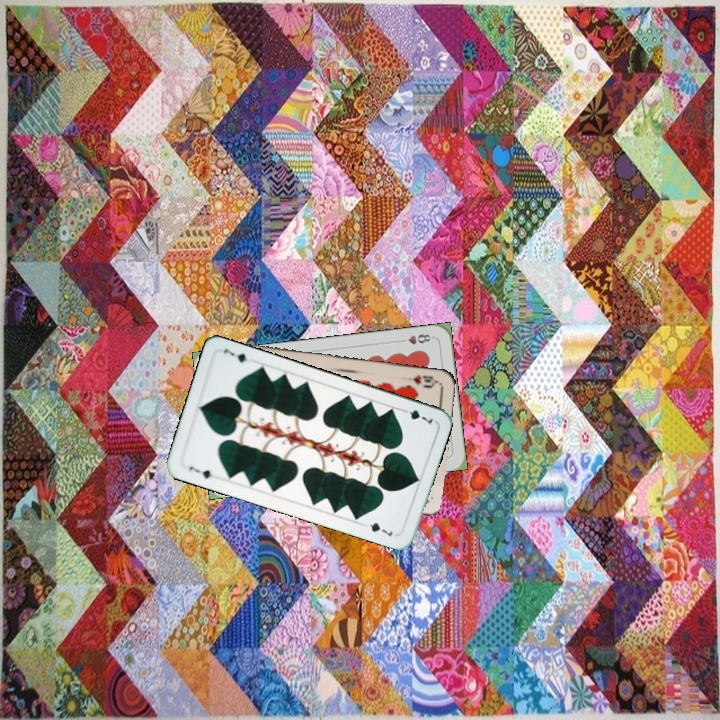G7: (397, 405, 435, 428), (184, 462, 214, 481)
H10: (401, 371, 441, 390)
H8: (395, 330, 436, 347)
